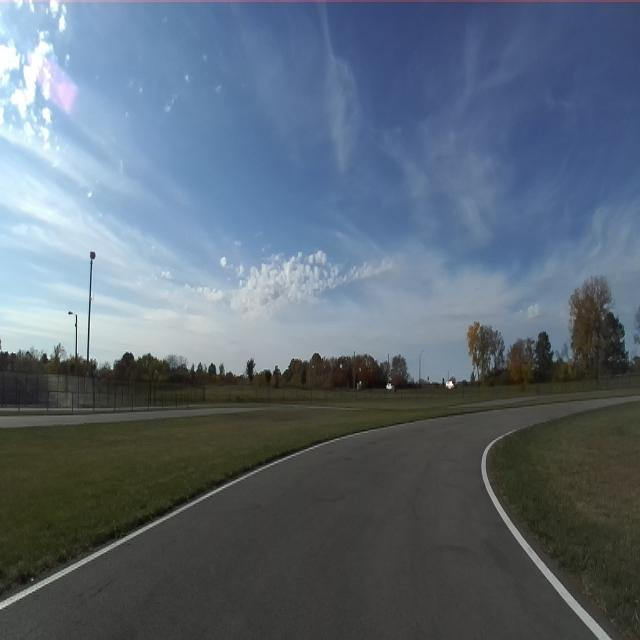white-line: (0, 417, 440, 612), (481, 429, 611, 639), (588, 620, 610, 639)
